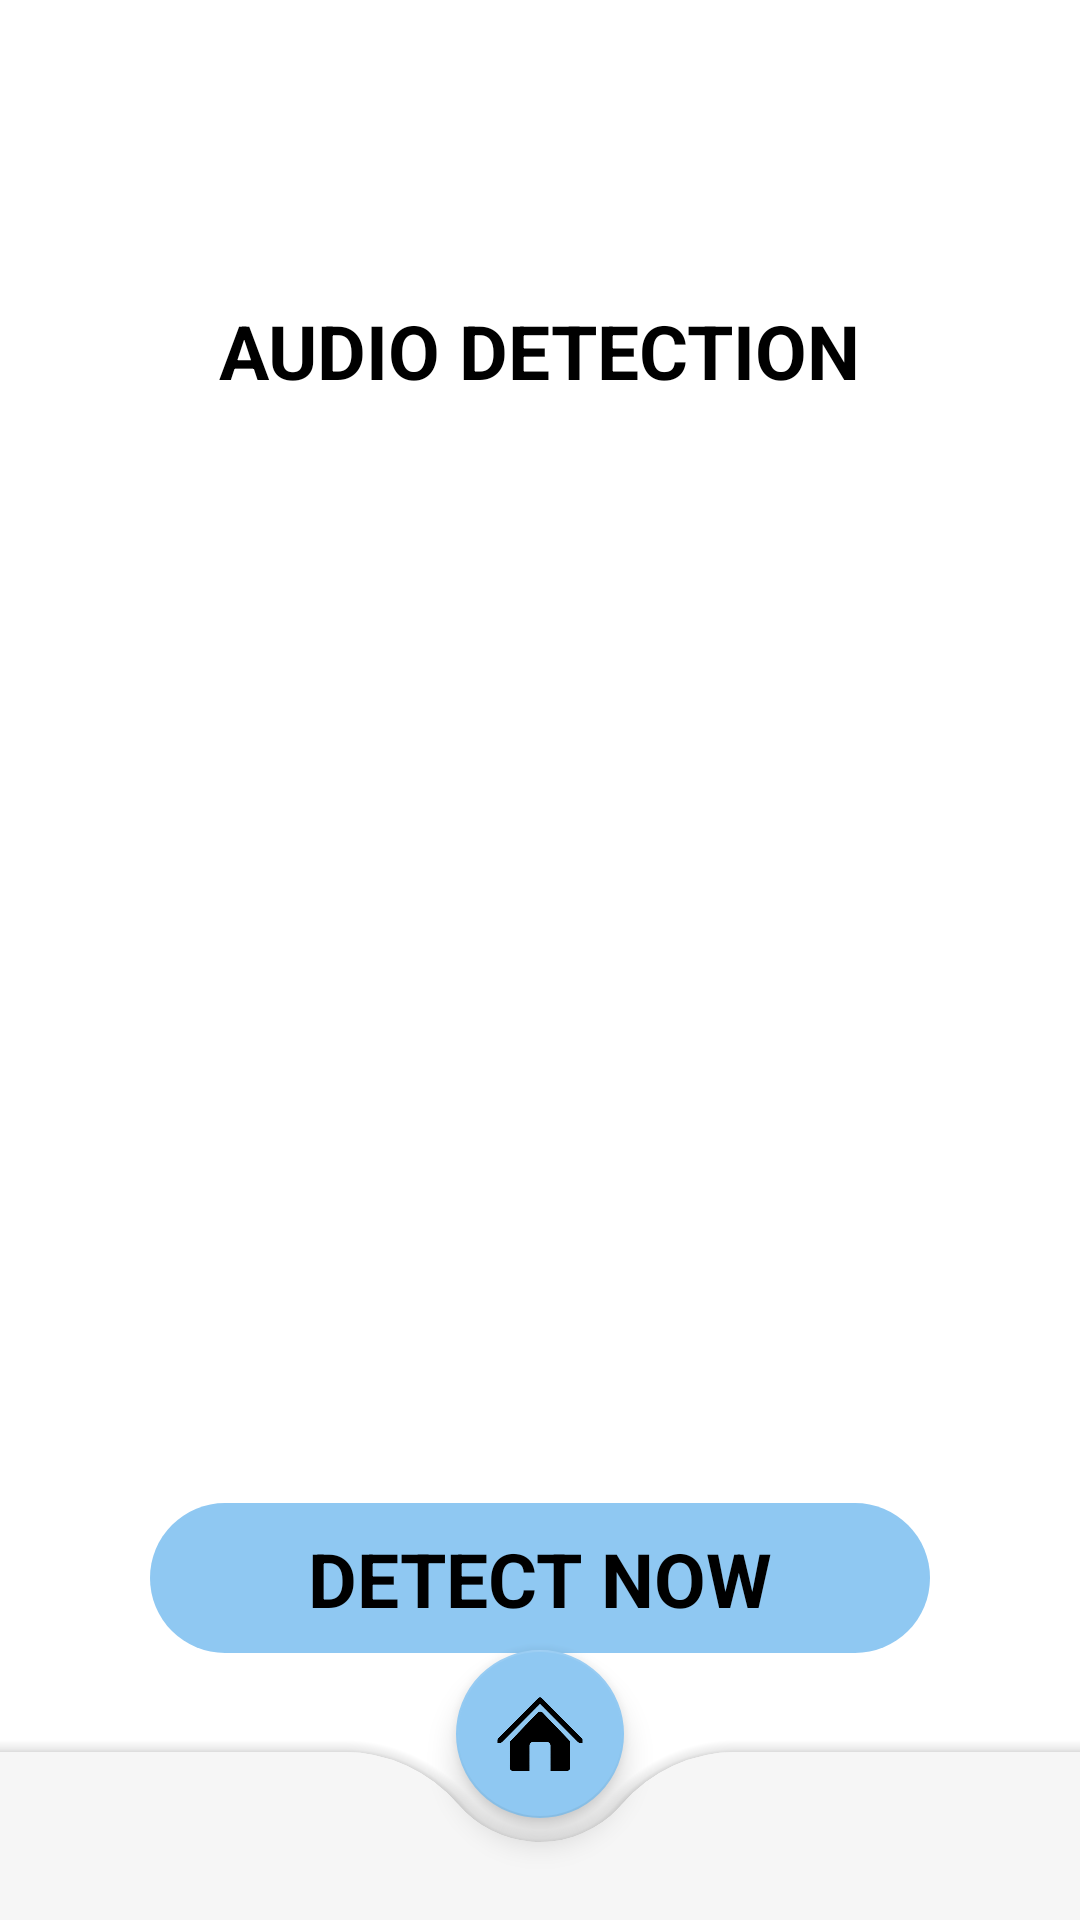

Icons on this 1080w x 1920h Android screen, each with its box as (x1, y1, x2, y2):
homebtn: (456, 1668, 624, 1836)
